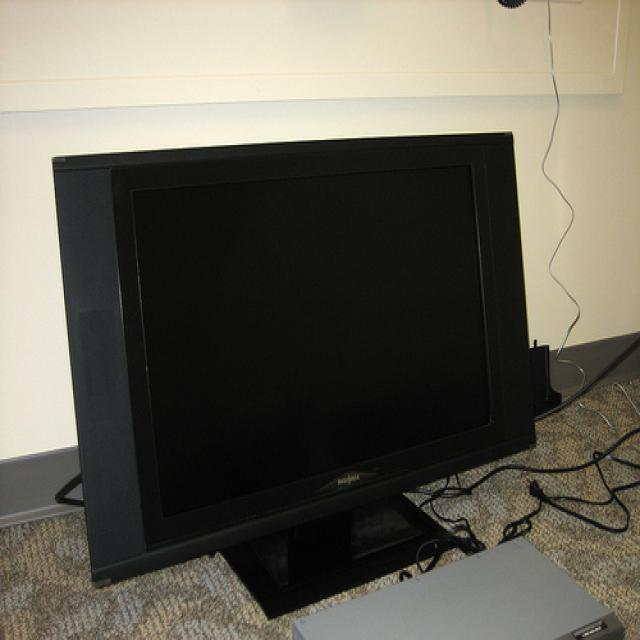tvmonitor: (49, 131, 539, 622)
